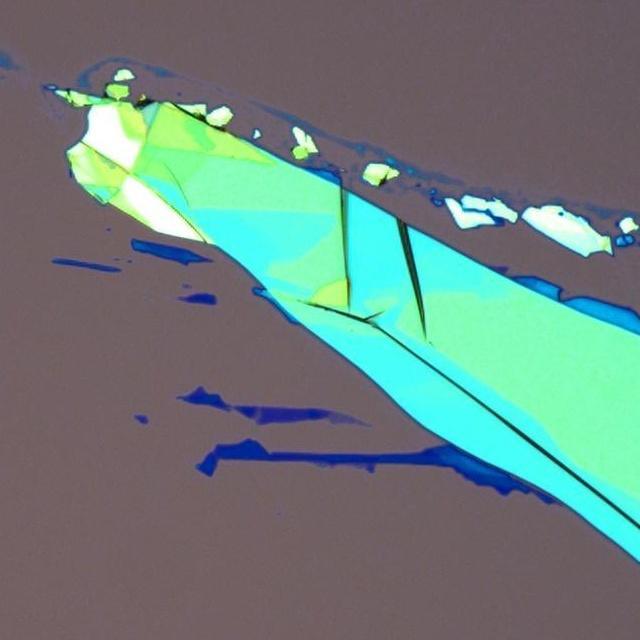monolayer-eWW4: (326, 412, 371, 428)
